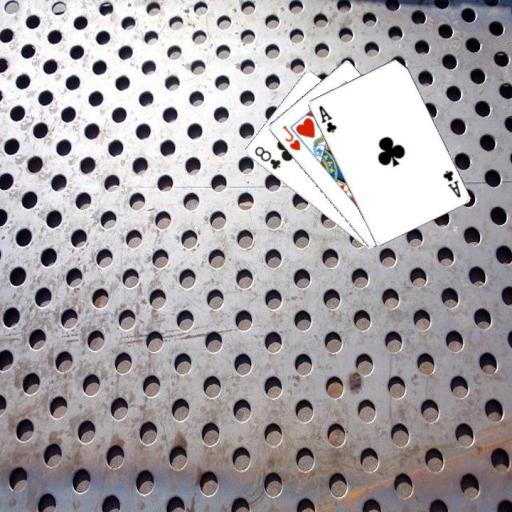8C: (251, 143, 282, 171)
AC: (315, 102, 338, 134), (440, 167, 463, 199)
JH: (279, 122, 302, 152)
